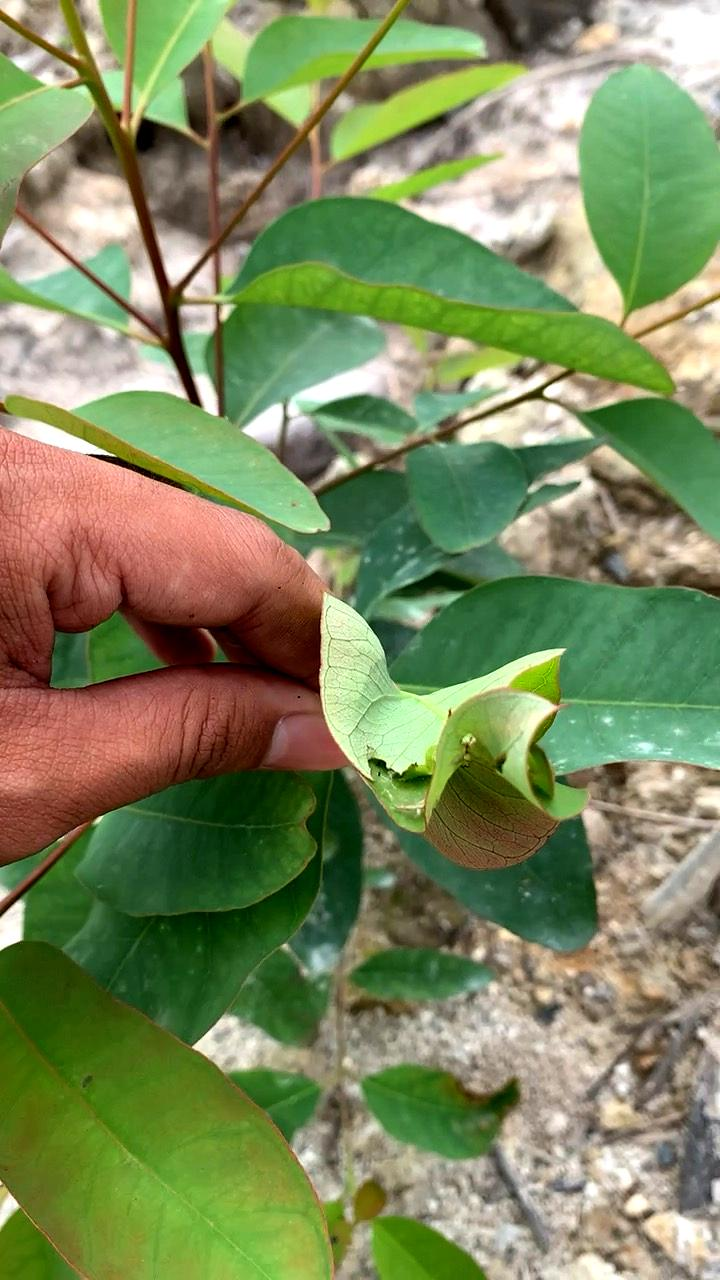Leaf Roller - Leaf: (303, 553, 581, 896)
